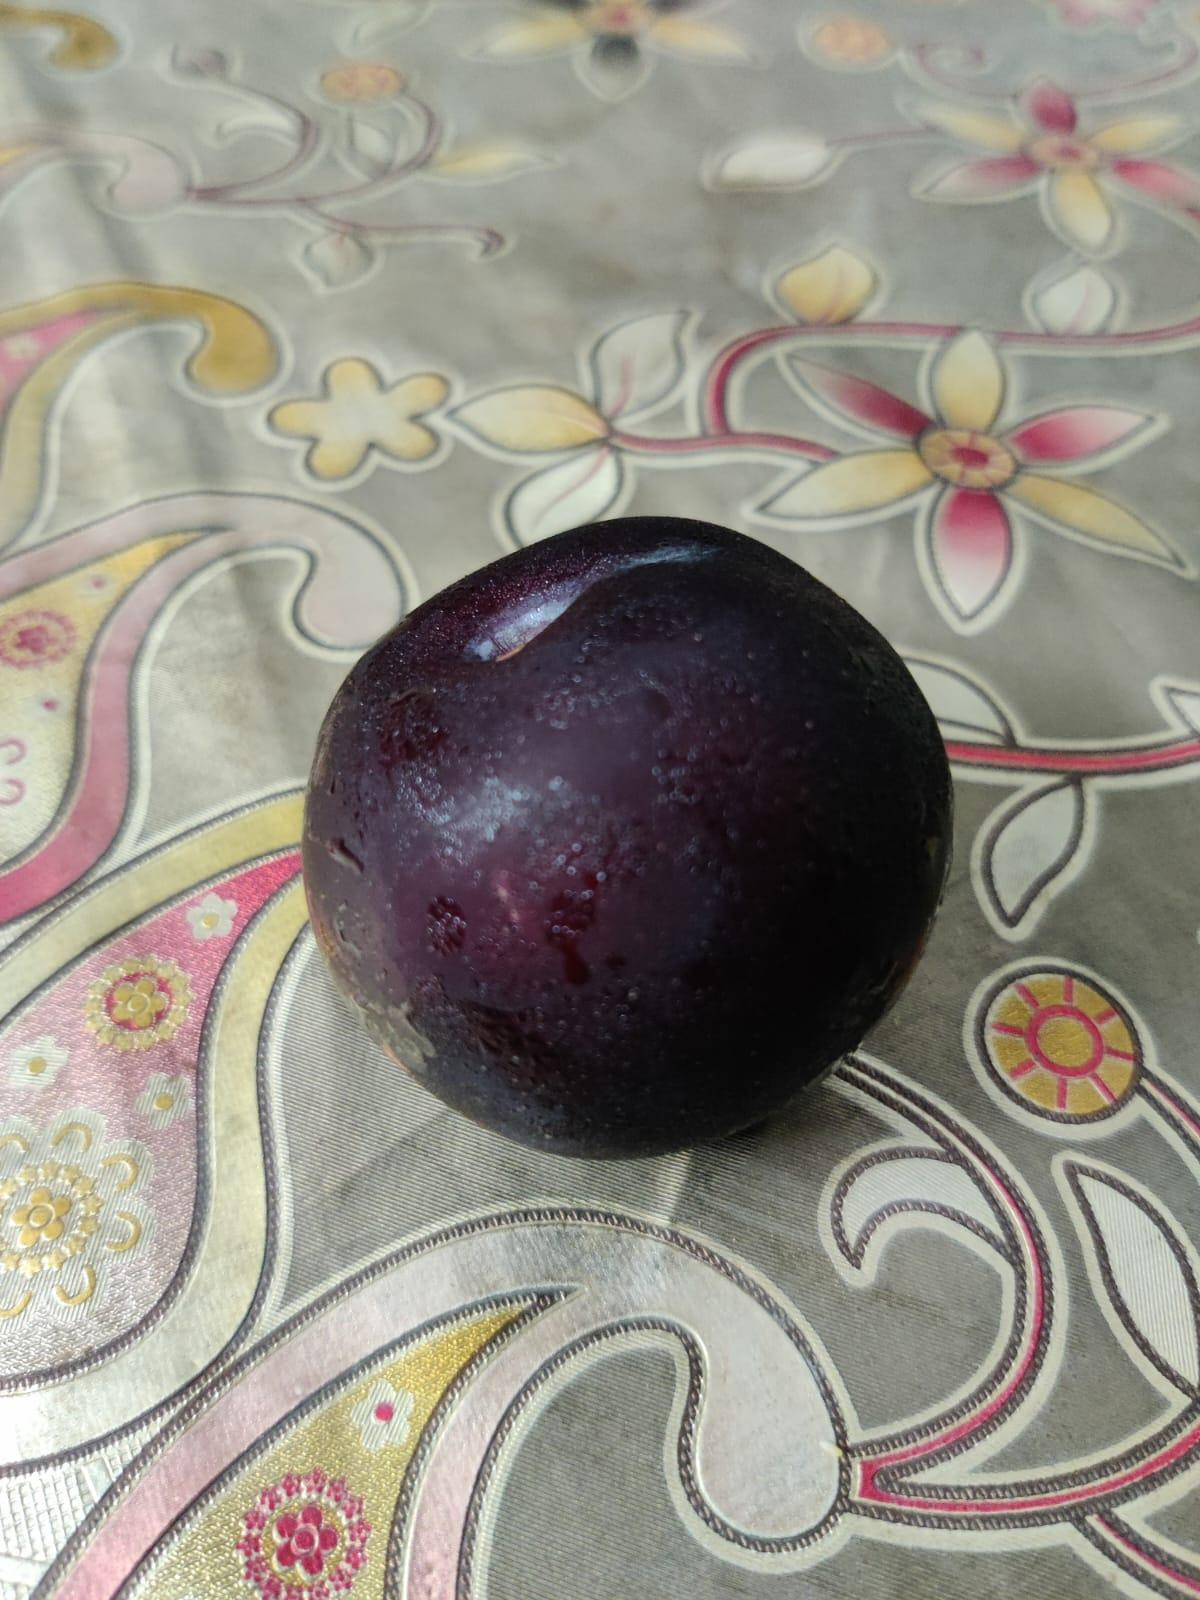non-mango: (290, 506, 971, 1180)
